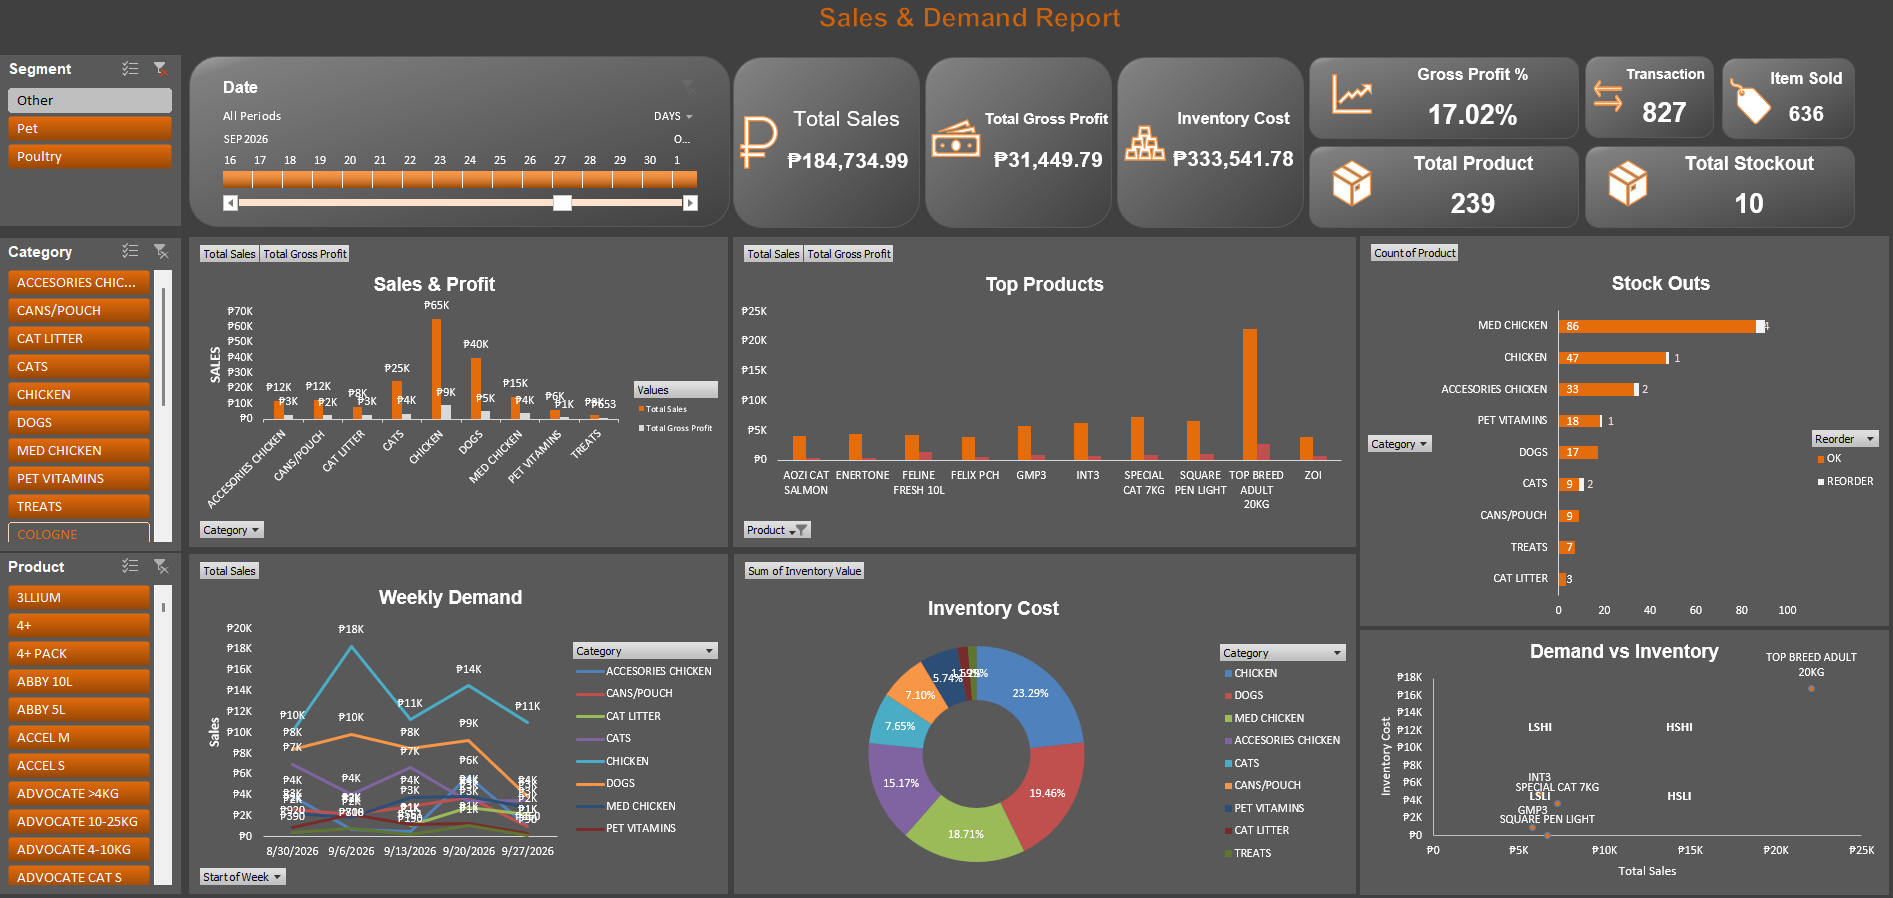

The dashboard page shown, as its layout file describes it:
{"tool":"powerbi","page":{"name":"Page 1","canvas":[1920,1080],"ordinal":0},"visuals":[{"type":"cardVisual","title":"Total Sales","fields":{"Data":["TransactionDataSets.Total Sales"]},"box":[747.7,67.7,212.3,92.3],"z":0},{"type":"cardVisual","fields":{"Data":["TransactionDataSets.Total Gross Profit"]},"box":[984.6,67.7,226.2,92.3],"z":1000},{"type":"cardVisual","fields":{"Data":["TransactionDataSets.Gross Profit %"]},"box":[1241.5,67.7,190.8,90.8],"z":2000},{"type":"cardVisual","fields":{"Data":["InventoryTable.Sum of Inventory Value"]},"box":[1458.5,67.7,227.7,92.3],"z":3000},{"type":"cardVisual","fields":{"Data":["DimProduct.Active Products"]},"box":[1716.9,67.7,187.7,92.3],"z":4000},{"type":"listSlicer","fields":{"Values":["DimProduct.Category"]},"box":[0,326.2,172.3,289.2],"z":5000},{"type":"listSlicer","fields":{"Values":["DimProduct.Product"]},"box":[0,615.4,172.3,466.2],"z":6000},{"type":"listSlicer","fields":{"Values":["DimProduct.Segment"]},"box":[0,172.3,172.3,153.8],"z":7000},{"type":"clusteredColumnChart","title":"Sales & Profit","fields":{"Category":["DimProduct.Category"],"Y":["TransactionDataSets.Total Sales","TransactionDataSets.Total Gross Profit"]},"box":[186.2,172.3,873.8,367.7],"z":8000},{"type":"clusteredColumnChart","title":"Top 10 Products by Sales","fields":{"Category":["DimProduct.Product"],"Y":["TransactionDataSets.Total Sales"]},"box":[1081.5,172.3,823.1,366.2],"z":9000},{"type":"slicer","fields":{"Values":["TransactionDataSets.Date"]},"box":[0,67.7,713.8,90.8],"z":10000},{"type":"lineClusteredColumnComboChart","title":"Weekly Demand vs Sales","fields":{"Category":["TransactionDataSets.Start of Week"],"Y":["TransactionDataSets.Total Sales"],"Y2":["TransactionDataSets.Quantity Sold"]},"box":[186.2,553.8,527.7,266.2],"z":11000},{"type":"clusteredBarChart","title":"Sales vs Inventory Value by Category","fields":{"Category":["DimProduct.Category"],"Y":["TransactionDataSets.Total Sales","InventoryTable.Sum of Inventory Value"]},"box":[735.4,553.8,616.9,510.8],"z":12000},{"type":"scatterChart","title":"Product Sales and Demand","fields":{"Category":["DimProduct.Product"],"Series":["DimProduct.Segment"],"Size":["InventoryTable.Sum of Total Stock"],"X":["TransactionDataSets.Quantity Sold"],"Y":["TransactionDataSets.Total Sales"]},"box":[1369.2,553.8,535.4,510.8],"z":13000},{"type":"donutChart","title":"Sales Mix by Segment","fields":{"Category":["DimProduct.Segment"],"Y":["TransactionDataSets.Total Sales"]},"box":[186.2,833.8,527.7,230.8],"z":14000},{"type":"textbox","box":[100,100,300,300],"z":15000},{"type":"textbox","box":[780,0,529.2,58.5],"z":17000}]}

Visuals, with their boxes on the page's 1920x1080 design canvas (x1, y1, x2, y2). These are canvas units, not pixel positions in the 1893x898 screenshot, which may show the page scaled, cropped or inside an application window:
"Total Sales" cardVisual: 748,68,960,160
cardVisual - TransactionDataSets.Total Gross Profit: 985,68,1211,160
cardVisual - TransactionDataSets.Gross Profit %: 1242,68,1432,158
cardVisual - InventoryTable.Sum of Inventory Value: 1458,68,1686,160
cardVisual - DimProduct.Active Products: 1717,68,1905,160
listSlicer - DimProduct.Category: 0,326,172,615
listSlicer - DimProduct.Product: 0,615,172,1082
listSlicer - DimProduct.Segment: 0,172,172,326
"Sales & Profit" clusteredColumnChart: 186,172,1060,540
"Top 10 Products by Sales" clusteredColumnChart: 1082,172,1905,538
slicer - TransactionDataSets.Date: 0,68,714,158
"Weekly Demand vs Sales" lineClusteredColumnComboChart: 186,554,714,820
"Sales vs Inventory Value by Category" clusteredBarChart: 735,554,1352,1065
"Product Sales and Demand" scatterChart: 1369,554,1905,1065
"Sales Mix by Segment" donutChart: 186,834,714,1065
textbox: 100,100,400,400
textbox: 780,0,1309,58
